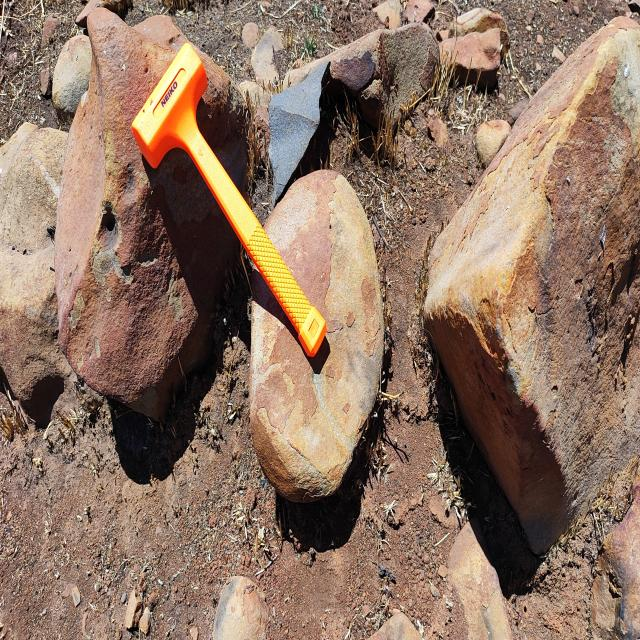Orange_hammer: (130, 40, 328, 360)
